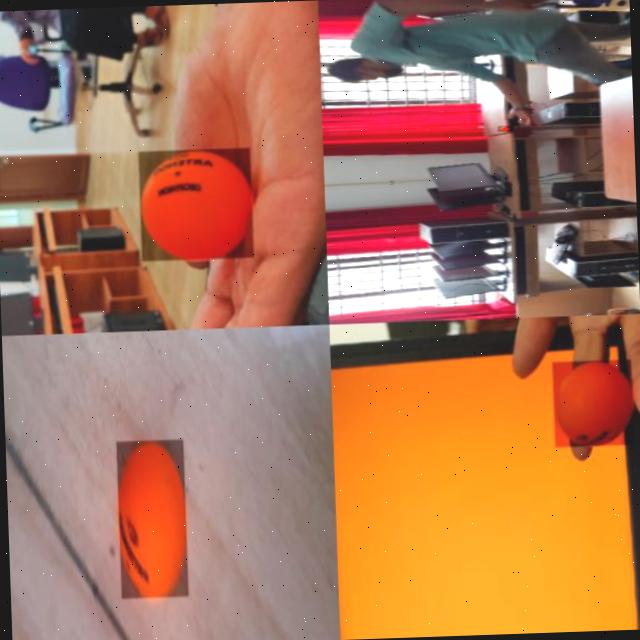ping-pong-ball: (137, 148, 254, 262), (115, 439, 188, 599), (550, 358, 634, 449), (497, 125, 513, 132)
